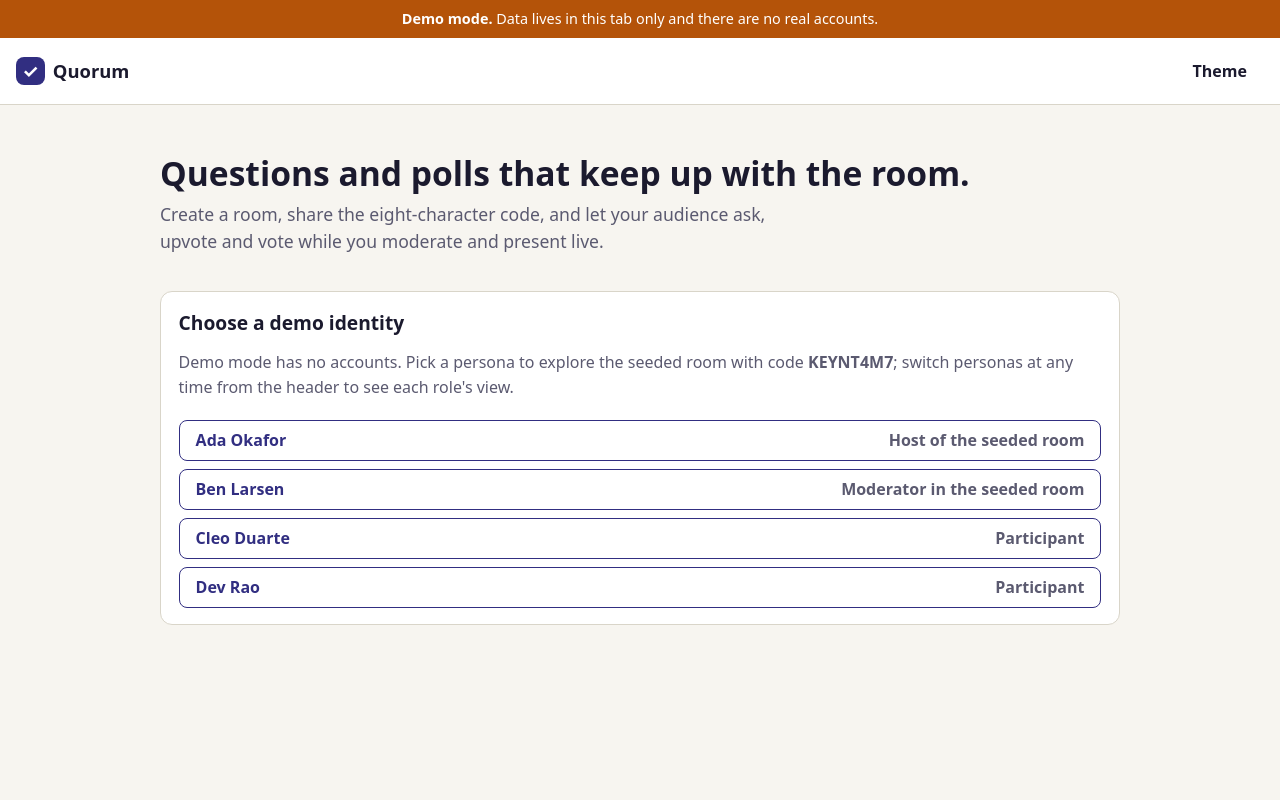
Test case: demo sign-in › switches persona from the header
The width and height of the screenshot is (1280, 800).
Click the button "Ada Okafor Host of the seeded room": click(241, 440) [179, 420, 1101, 461]
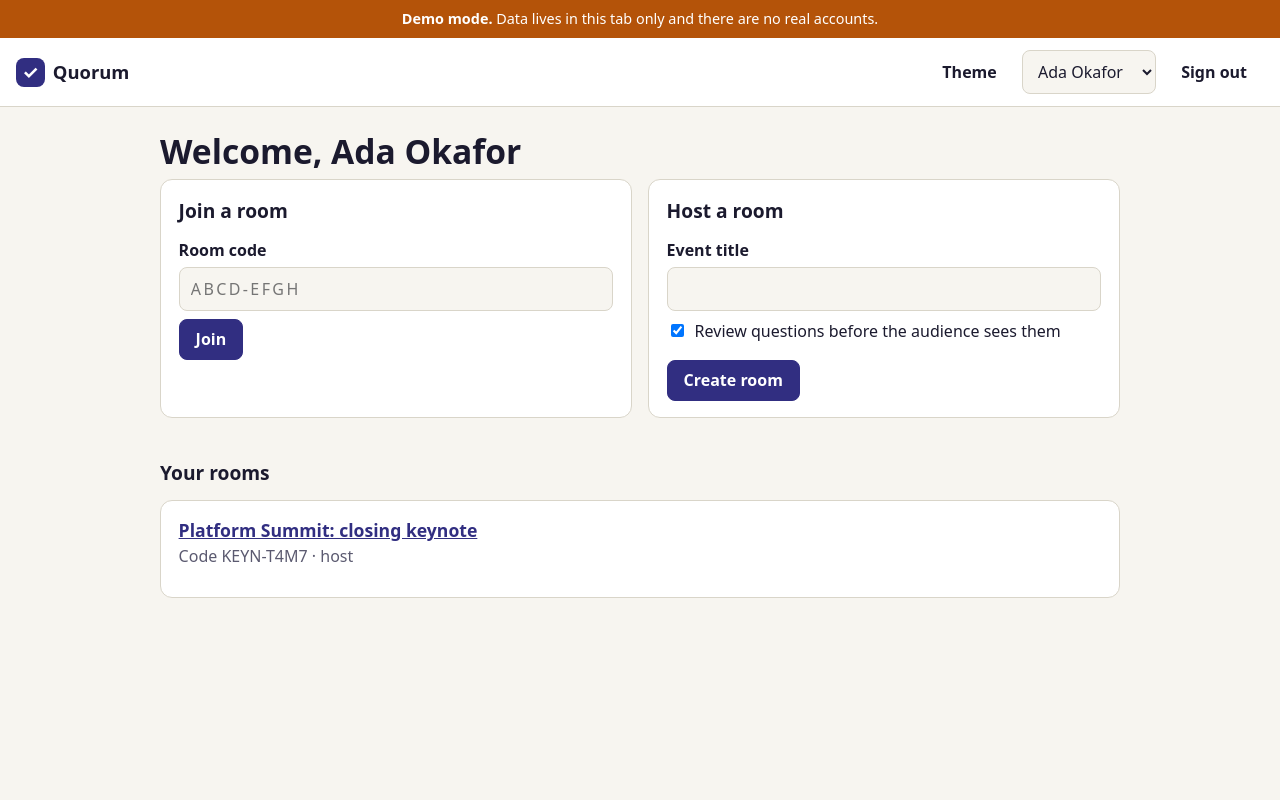
Select "Ben Larsen" in the dropdown named "Demo user": (1089, 72) [1022, 50, 1156, 94]
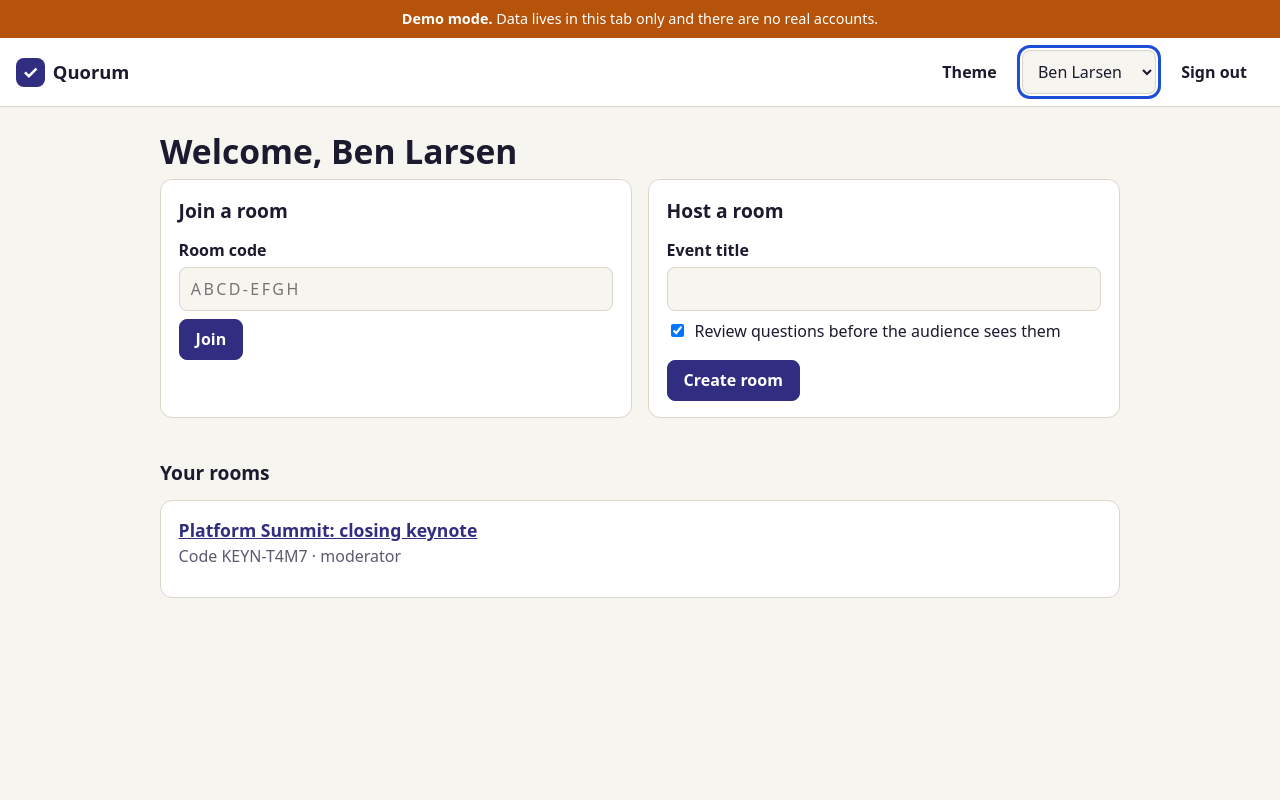
Result: the heading "Welcome, Ben Larsen" is shown at [160, 128, 517, 174]
